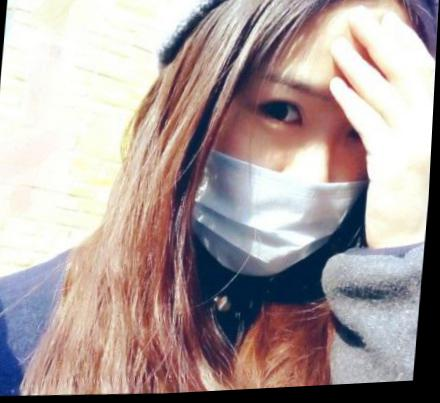WRONG: (189, 71, 396, 285)
